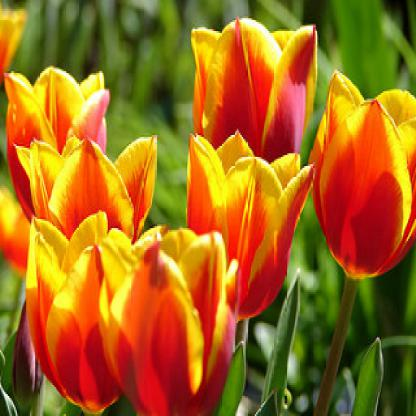TULIP: (9, 19, 408, 401)
